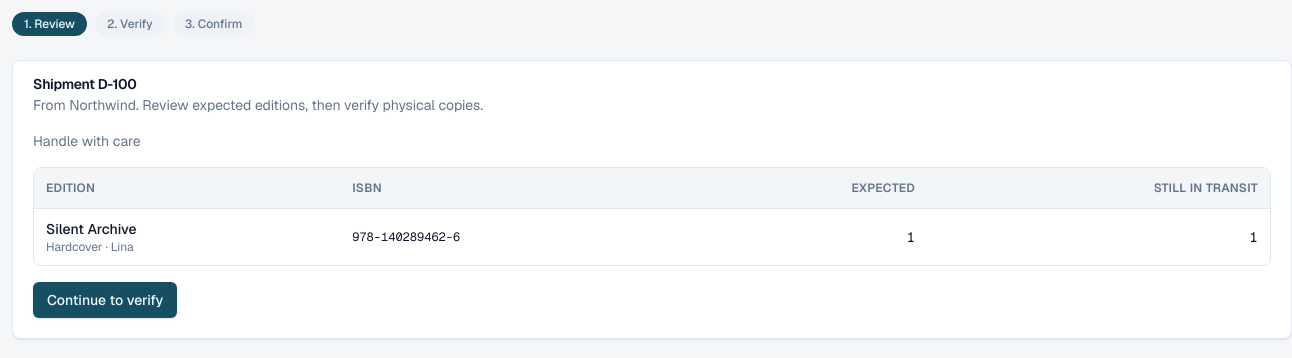
Test: ReceivingStepper › walks Review → Verify → Confirm
The image size is (1292, 358).
Expected: the heading "Shipment D-100" is shown, [33,75,136,93]
Expected: the text "Handle with care" is shown, [33,132,141,150]
Click the button "Continue to verify". click: [105, 300]
box: [33,282,177,318]
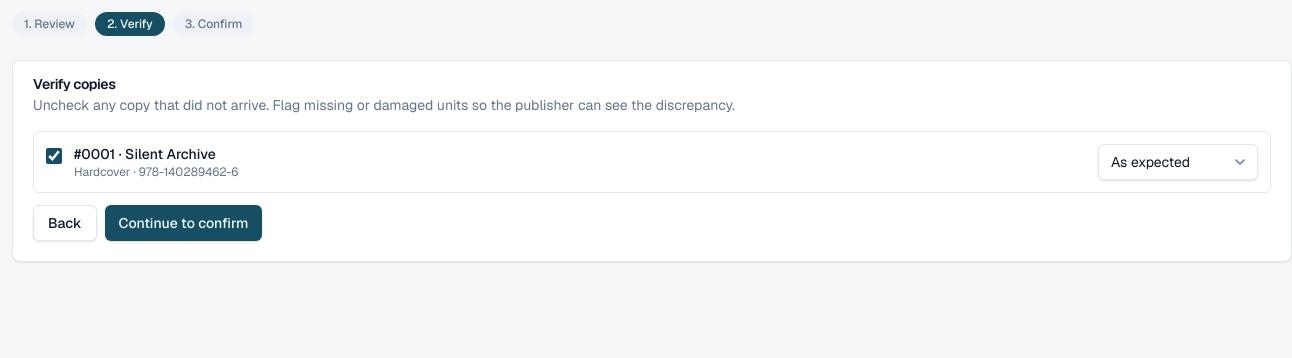
Result: the heading "Verify copies" is shown at [33,75,116,93]
Click the button "Continue to confirm". click: [183, 223]
box: [105,205,262,241]
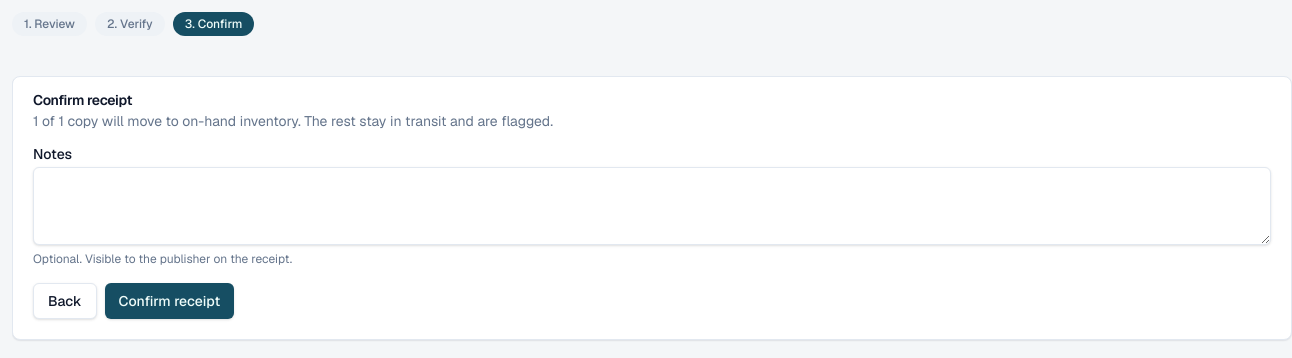
Result: the heading "Confirm receipt" is shown at [33,91,132,109]
Result: the button "Confirm receipt" is shown at [105,283,234,319]
